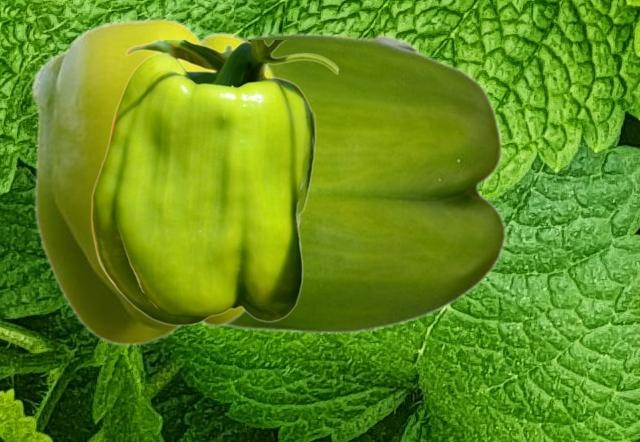bell_pepper: (222, 32, 506, 334), (30, 16, 278, 345), (90, 40, 338, 325)
